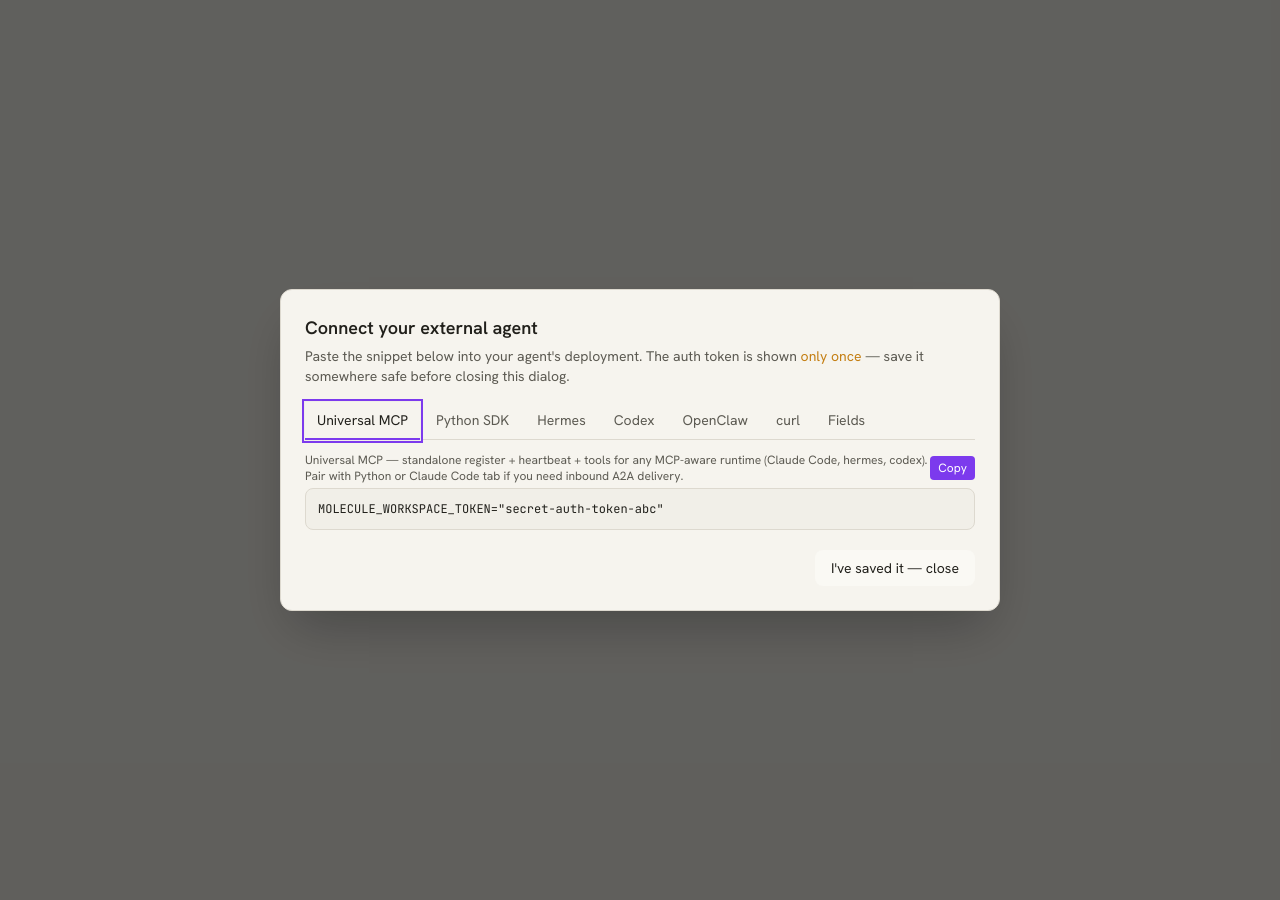
Scenario: ExternalConnectModal — tab switching › switches to the curl tab and shows the snippet with stamped token
Click the tab "curl" at x=788, y=421, box [764,402,812,440]
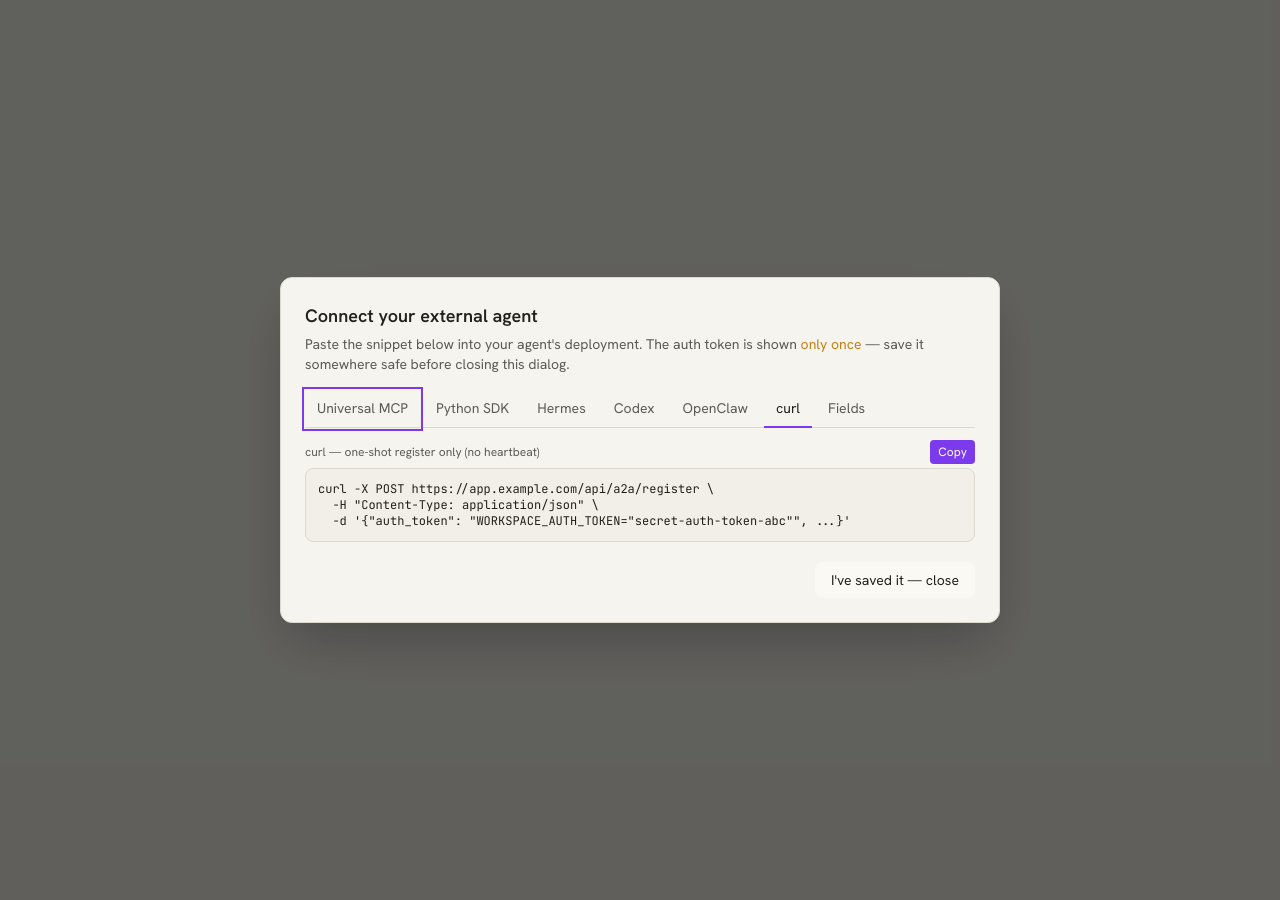
Expected: the text "secret-auth-token-abc" is shown, [318,481,851,529]
Now the text "curl" is shown, box [318,481,851,529]
